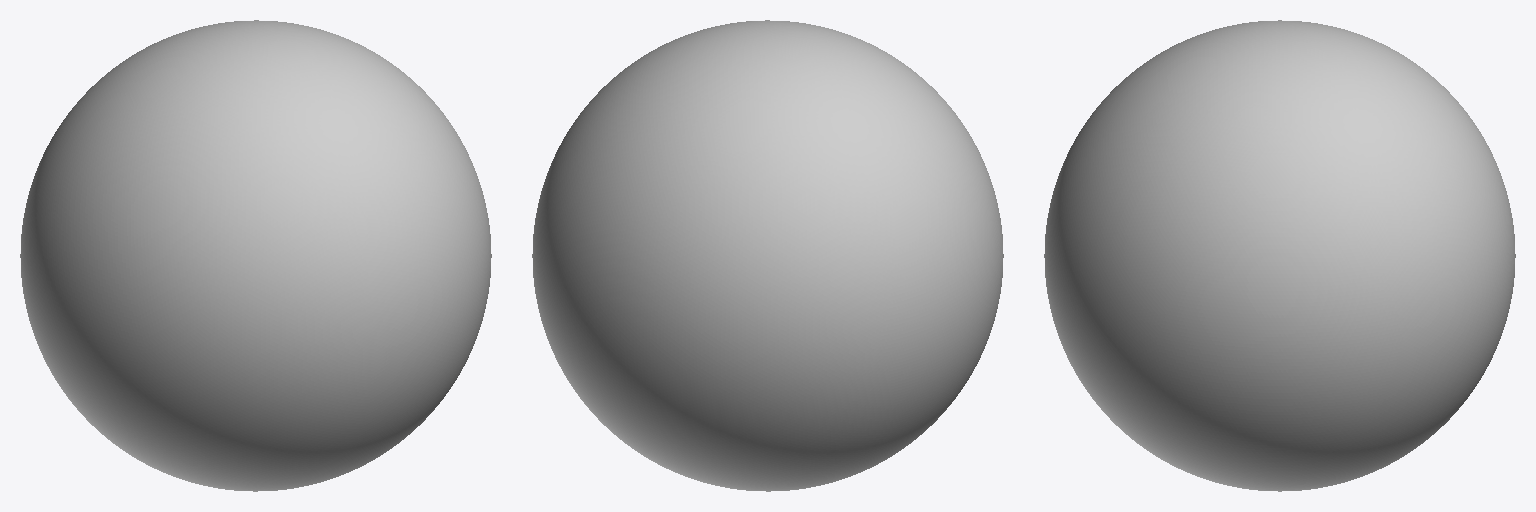
The model's file is ico_sphere.obj.
3 renders of one model, left to right at view 1: azimuth 30°, elevation 25°; view 2: azimuth 150°, elevation 25°; view 3: azimuth 270°, elevation 25°, orthographic.
Bounding box in the file's own units: 2 × 2 × 2.